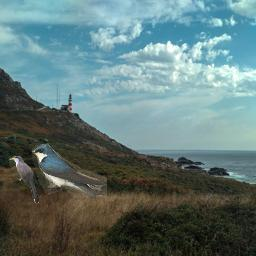Cuckoo: (9, 155, 40, 204)
Swallow: (32, 144, 107, 198)
